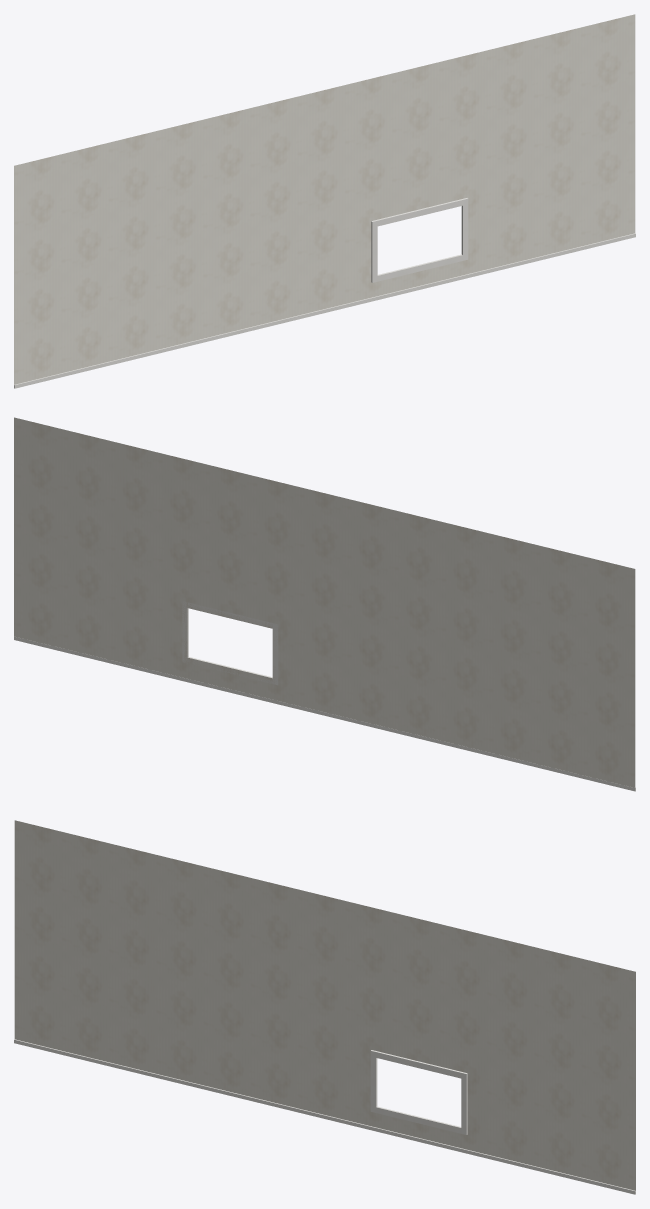
3 renders of one model, top to bottom at view 1: azimuth 30°, elevation 25°; view 2: azimuth 150°, elevation 25°; view 3: azimuth 330°, elevation 25°, orthographic.
Visible parts, largest first — view 1: jx_wm_26_d3da96c3; view 2: jx_wm_26_d3da96c3; view 3: jx_wm_26_d3da96c3.
Part boxes in pixels (left/top/right/bottom): jx_wm_26_d3da96c3: left=14, top=14, right=635, bottom=388; jx_wm_26_d3da96c3: left=14, top=417, right=635, bottom=791; jx_wm_26_d3da96c3: left=14, top=820, right=635, bottom=1194.
Bounding box in the file's own units: 26.3 × 9 × 0.086.
Materials: 2 (2 with a texture image).
